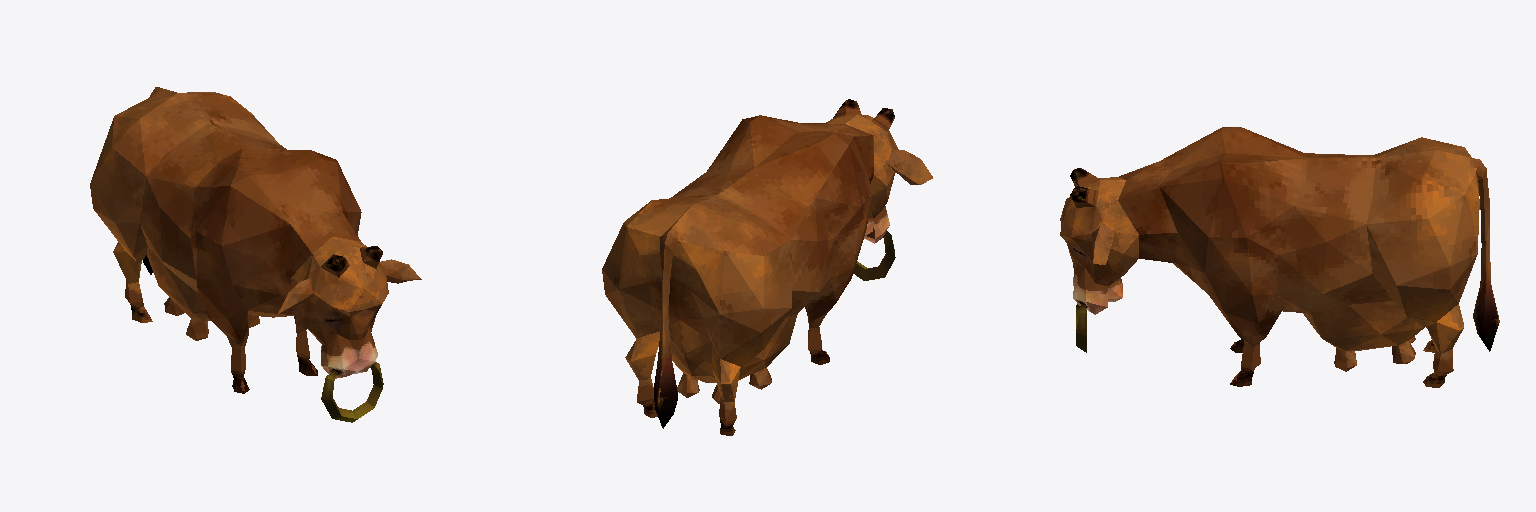
3 renders of one model, left to right at view 1: azimuth 30°, elevation 25°; view 2: azimuth 150°, elevation 25°; view 3: azimuth 270°, elevation 25°, orthographic.
Parts seen in each view (by area): view 1: node_0166B231, node_017D303E; view 2: node_0166B231, node_017D303E; view 3: node_0166B231.
Boxes of the visible parts, x1=… form: node_0166B231: x1=90, y1=87, x2=421, y2=393; node_017D303E: x1=321, y1=362, x2=383, y2=422; node_0166B231: x1=602, y1=99, x2=932, y2=435; node_017D303E: x1=853, y1=231, x2=895, y2=280; node_0166B231: x1=1060, y1=127, x2=1499, y2=387.
Bounding box in the file's own units: 1992 × 2562 × 4613.
Materials: 1 (1 with a texture image).